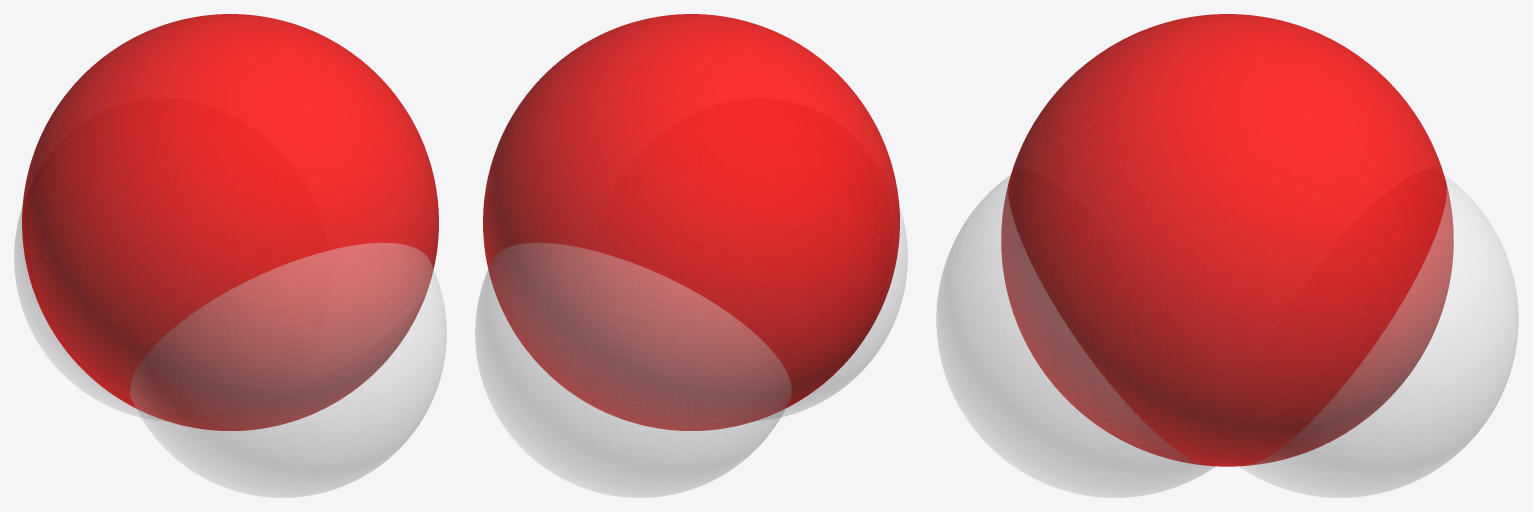
Rendered from 水分子.glb.
The picture shows the model from 3 angles, left to right: view 1: azimuth 30°, elevation 25°; view 2: azimuth 150°, elevation 25°; view 3: azimuth 270°, elevation 25°; orthographic projection. The views are drawn at different scales.
Visible parts, largest first — view 1: 球, 球.005, 球.006; view 2: 球, 球.006, 球.005; view 3: 球, 球.005, 球.006.
Boxes of the visible parts, x1,y1,x2,y2 form: 球: (22, 14, 438, 430); 球.005: (130, 243, 446, 497); 球.006: (14, 206, 166, 421); 球: (483, 14, 899, 430); 球.006: (475, 243, 791, 497); 球.005: (755, 206, 907, 421); 球: (1001, 14, 1453, 466); 球.005: (936, 175, 1215, 497); 球.006: (1239, 175, 1518, 497).
Bounding box in the file's own units: 3.04 × 3.31 × 3.92.
